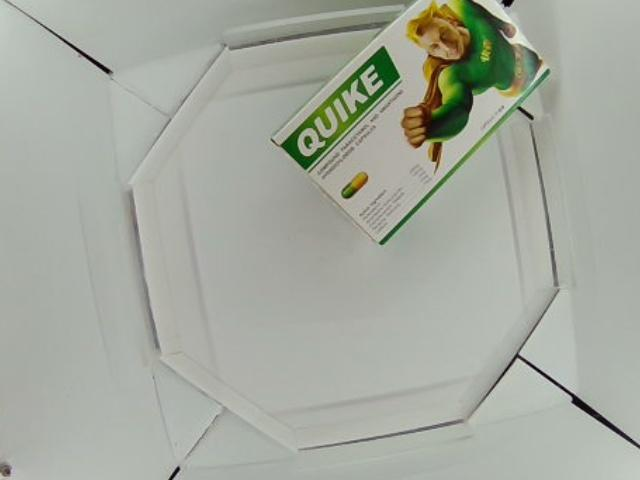Medicine: (268, 1, 557, 246)
